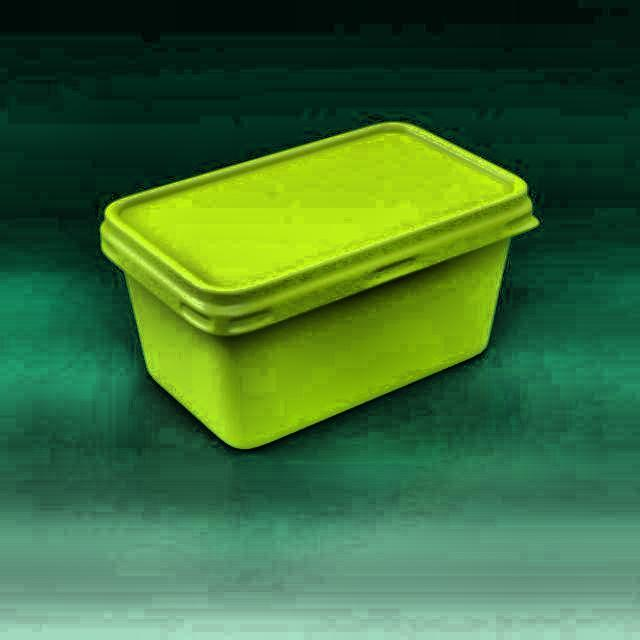plastic: (98, 123, 540, 453)
